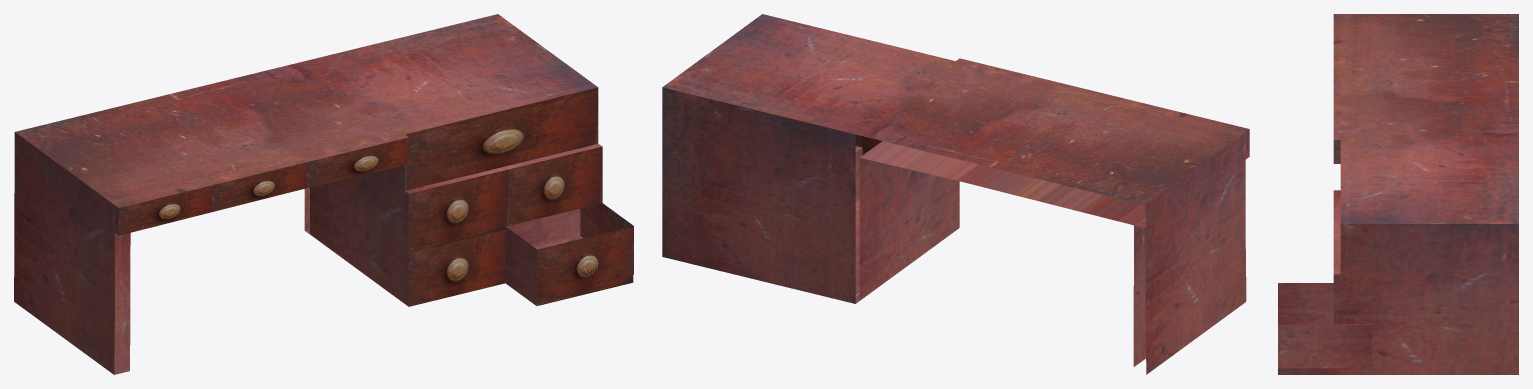
The model's file is desk.FBX.
3 renders of one model, left to right at view 1: azimuth 30°, elevation 25°; view 2: azimuth 150°, elevation 25°; view 3: azimuth 270°, elevation 25°, orthographic. The views are drawn at different scales.
Visible parts, largest first — view 1: Box001; view 2: Box001; view 3: Box001.
Part boxes in pixels (bbox=[...]): Box001: bbox=[14, 14, 633, 374]; Box001: bbox=[662, 14, 1249, 374]; Box001: bbox=[1278, 14, 1518, 374].
Bounding box in the file's own units: 99.95 × 33.43 × 48.35.
Materials: 1 (1 with a texture image).
